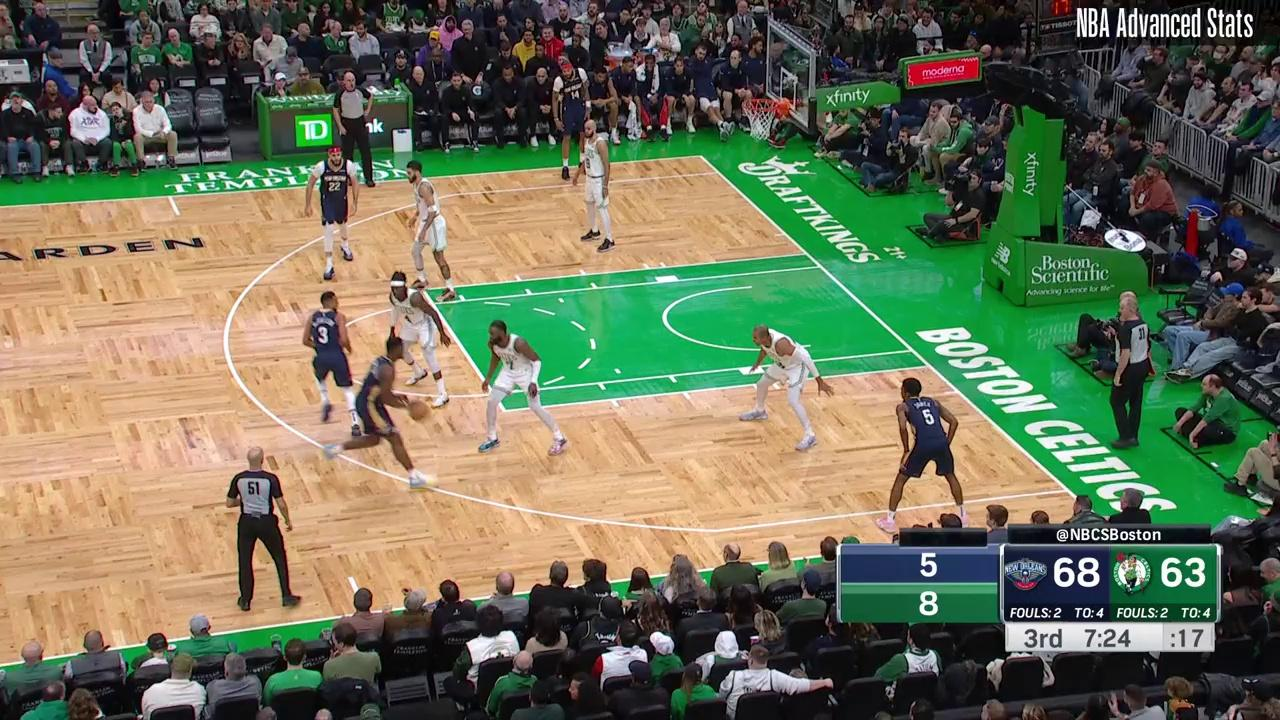3_dx: (1062, 486, 1072, 493)
3_sx: (713, 168, 721, 176)
b_sx: (697, 153, 704, 160)
free_adx: (500, 406, 509, 414)
free_asx: (417, 285, 428, 294)
free_bdx: (923, 361, 933, 370)
free_bsx: (802, 250, 811, 259)
mid_dx: (346, 572, 354, 580)
mid_sx: (174, 211, 182, 219)
referee: (226, 445, 304, 610), (1106, 299, 1151, 450), (332, 70, 378, 183)
team: (740, 323, 837, 455), (478, 319, 569, 458), (383, 274, 451, 411), (401, 160, 456, 302), (575, 119, 617, 252)
team1: (327, 337, 434, 493), (877, 375, 974, 527), (302, 290, 366, 439), (306, 148, 359, 282), (553, 59, 593, 184)
timer: (1081, 620, 1136, 651)
